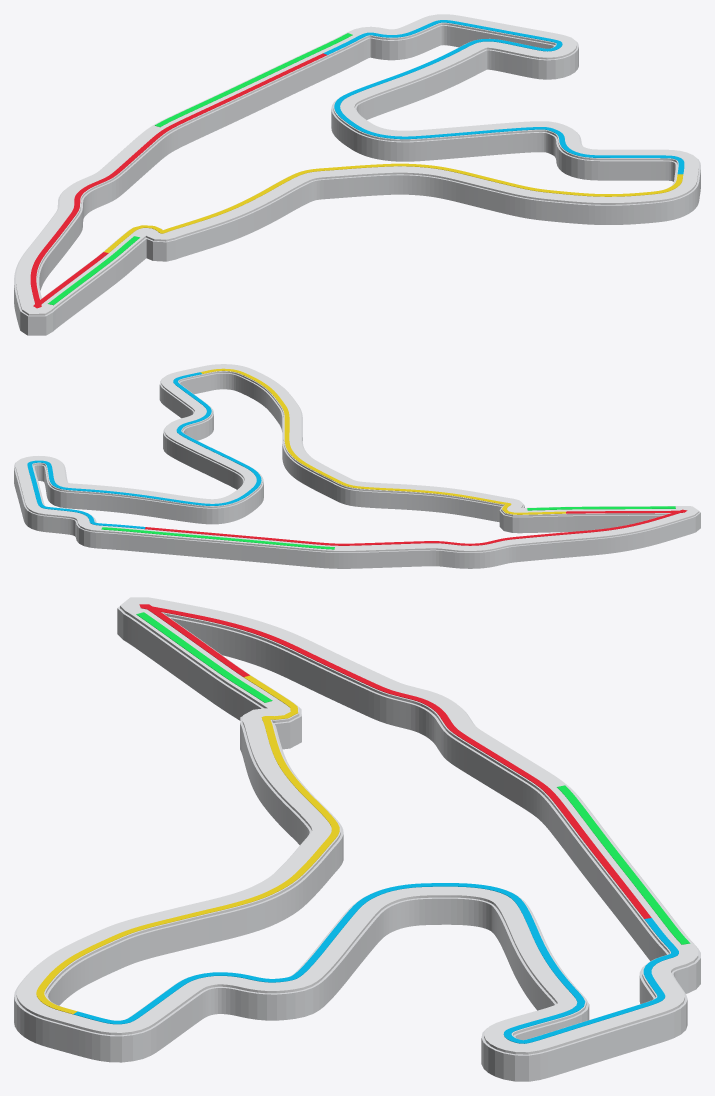
Rendered from SpaCircuit.glb.
3 views of the same model, one above another, from view 1: azimuth 30°, elevation 25°; view 2: azimuth 150°, elevation 25°; view 3: azimuth 270°, elevation 25° (orthographic). The views are drawn at different scales.
Visible parts, largest first — view 1: SpaOutline, SpaTrack, SectorStrip_2, SectorStrip_1, SectorStrip_3, DrsStrip_1, DrsStrip_2; view 2: SpaOutline, SpaTrack, SectorStrip_2, SectorStrip_1, SectorStrip_3, DrsStrip_1, DrsStrip_2; view 3: SpaOutline, SpaTrack, SectorStrip_2, SectorStrip_1, SectorStrip_3, DrsStrip_1, DrsStrip_2.
Boxes of the visible parts, x1,y1,x2,y2 form: SpaOutline: (14,25,700,335); SpaTrack: (16,14,698,315); SectorStrip_2: (323,20,684,174); SectorStrip_1: (30,53,326,308); SectorStrip_3: (104,163,683,252); DrsStrip_1: (155,33,352,127); DrsStrip_2: (48,236,139,305); SpaOutline: (14,373,700,568); SpaTrack: (15,364,699,552); SectorStrip_2: (27,372,261,528); SectorStrip_1: (145,509,687,545); SectorStrip_3: (200,368,565,514); DrsStrip_1: (101,527,334,549); DrsStrip_2: (527,506,675,510); SpaOutline: (14,606,700,1081); SpaTrack: (16,597,698,1054); SectorStrip_2: (73,883,678,1043); SectorStrip_1: (139,604,651,918); SectorStrip_3: (36,675,339,1014); DrsStrip_1: (557,785,690,944); DrsStrip_2: (136,612,272,702).
Size of the model in its own units: 16.5 by 0.497 by 10.48.
